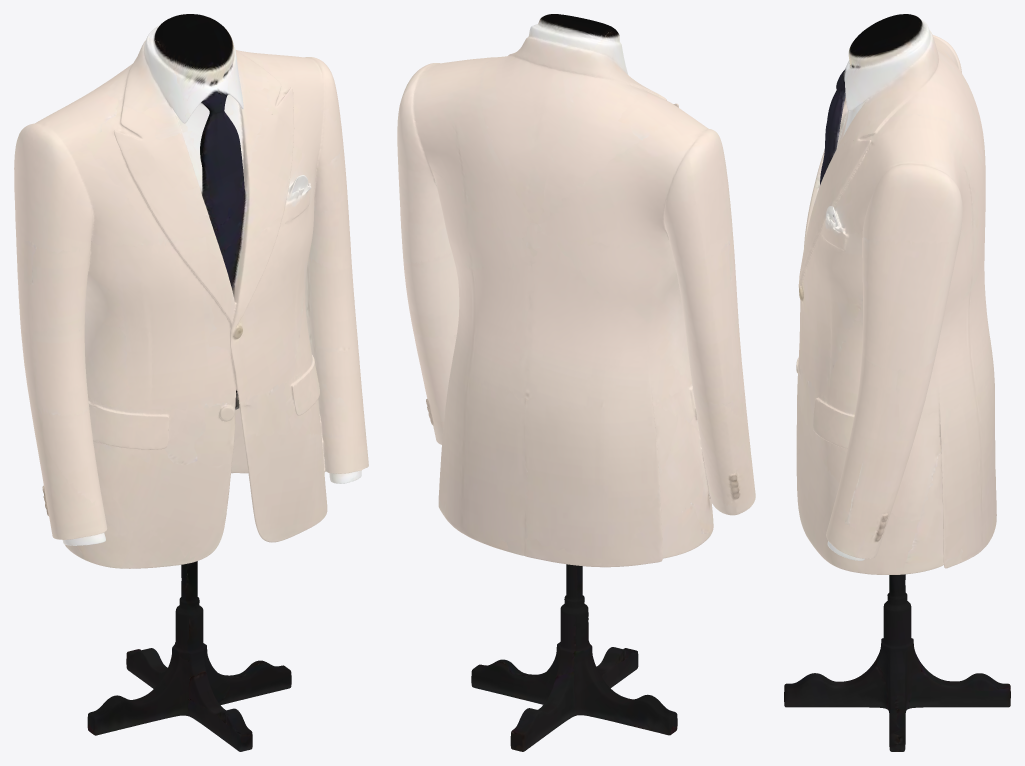
The model's file is suit.glb.
3 renders of one model, left to right at view 1: azimuth 30°, elevation 25°; view 2: azimuth 150°, elevation 25°; view 3: azimuth 270°, elevation 25°, orthographic.
Size of the model in its own units: 0.9191 by 1.9 by 0.5709.
Materials: 1 (1 with a texture image).
